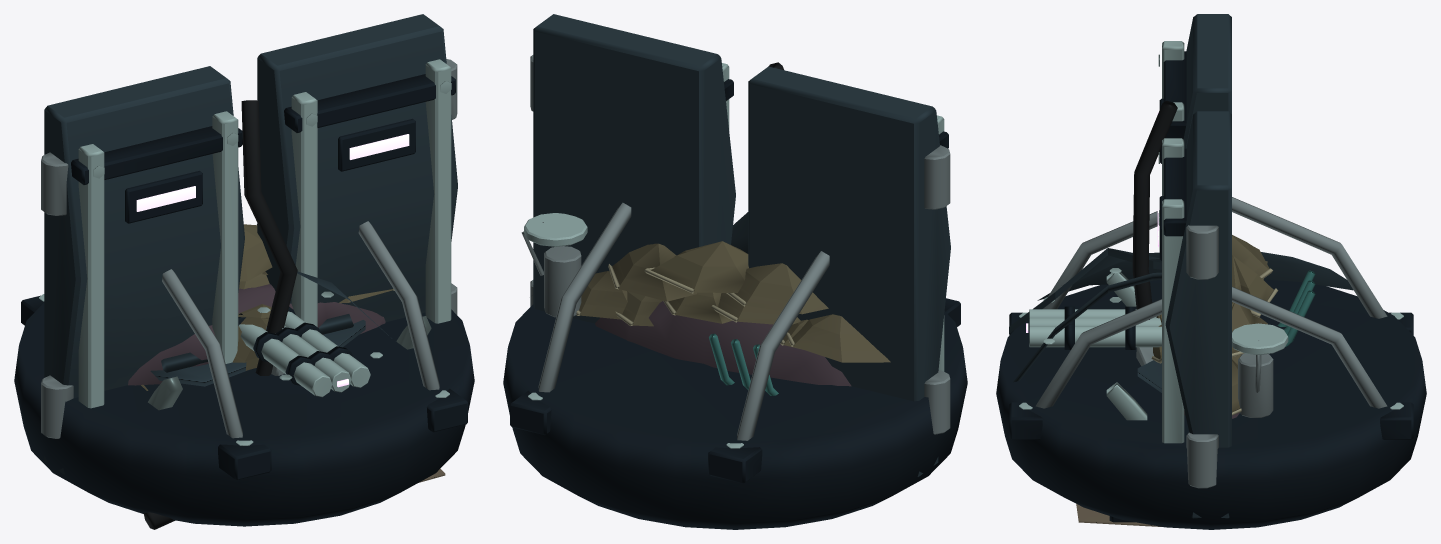
The model's file is incidents.glb.
The picture shows the model from 3 angles, left to right: view 1: azimuth 30°, elevation 25°; view 2: azimuth 150°, elevation 25°; view 3: azimuth 270°, elevation 25°; orthographic projection. The views are drawn at different scales.
Visible parts, largest first — view 1: failed-shield-leaves--e9-body, strained-containment-diaphragm--e9-dark, failed-shield-leaves--e9-trim, failed-shield-leaves--e9-dark, strained-containment-diaphragm--p11-steel, strained-containment-diaphragm--e9-trim, brood-stronghold-wall--p11-tint, failed-shield-leaves--p11-rubber, failed-shield-leaves--p11-steel, brood-stronghold-wall--e9-body, failed-shield-leaves--e9-violet, consuming-workstation-mantle--p11-tint (+2 smaller); view 2: failed-shield-leaves--e9-body, strained-containment-diaphragm--e9-dark, brood-stronghold-wall--p11-tint, strained-containment-diaphragm--p11-steel, consuming-workstation-mantle--p11-tint, failed-shield-leaves--p11-steel, strained-containment-diaphragm--e9-trim, failed-relay-patch--p11-tint, failed-shield-leaves--e9-trim, strained-containment-diaphragm--e9-body; view 3: strained-containment-diaphragm--e9-dark, failed-shield-leaves--e9-body, strained-containment-diaphragm--p11-steel, strained-containment-diaphragm--e9-trim, strained-containment-diaphragm--e9-body, failed-shield-leaves--e9-trim, failed-shield-leaves--p11-steel, failed-shield-leaves--p11-rubber, failed-shield-leaves--e9-dark, brood-stronghold-wall--p11-tint, brood-stronghold-wall--e9-trim, failed-relay-patch--p11-tint (+2 smaller).
Part boxes in pixels (box(x1,y1,x2,y2)): failed-shield-leaves--e9-body: box(44, 14, 457, 474); strained-containment-diaphragm--e9-dark: box(14, 295, 474, 526); failed-shield-leaves--e9-trim: box(78, 59, 451, 408); failed-shield-leaves--e9-dark: box(71, 74, 455, 223); strained-containment-diaphragm--p11-steel: box(162, 221, 439, 438); strained-containment-diaphragm--e9-trim: box(39, 291, 449, 445); brood-stronghold-wall--p11-tint: box(128, 224, 394, 390); failed-shield-leaves--p11-rubber: box(241, 100, 297, 375); failed-shield-leaves--p11-steel: box(41, 59, 457, 438); brood-stronghold-wall--e9-body: box(150, 320, 365, 386); failed-shield-leaves--e9-violet: box(136, 134, 409, 211); consuming-workstation-mantle--p11-tint: box(233, 273, 271, 370); failed-shield-leaves--e9-body: box(533, 14, 950, 476); strained-containment-diaphragm--e9-dark: box(503, 298, 967, 529); brood-stronghold-wall--p11-tint: box(576, 241, 890, 386); strained-containment-diaphragm--p11-steel: box(521, 202, 829, 440); consuming-workstation-mantle--p11-tint: box(615, 291, 808, 349); failed-shield-leaves--p11-steel: box(530, 55, 950, 434); strained-containment-diaphragm--e9-trim: box(524, 213, 743, 448); failed-relay-patch--p11-tint: box(709, 333, 778, 395); failed-shield-leaves--e9-trim: box(722, 63, 944, 371); strained-containment-diaphragm--e9-body: box(532, 212, 748, 295); strained-containment-diaphragm--e9-dark: box(996, 279, 1426, 529); failed-shield-leaves--e9-body: box(1165, 14, 1231, 518); strained-containment-diaphragm--p11-steel: box(1035, 197, 1387, 417); strained-containment-diaphragm--e9-trim: box(1019, 268, 1403, 409); strained-containment-diaphragm--e9-body: box(1009, 248, 1353, 382); failed-shield-leaves--e9-trim: box(1158, 41, 1184, 443); failed-shield-leaves--p11-steel: box(1136, 225, 1218, 488); failed-shield-leaves--p11-rubber: box(1132, 100, 1177, 319); failed-shield-leaves--e9-dark: box(1159, 51, 1186, 261); brood-stronghold-wall--p11-tint: box(1184, 235, 1278, 418); brood-stronghold-wall--e9-trim: box(1106, 272, 1147, 420); failed-relay-patch--p11-tint: box(1277, 270, 1315, 346).
Bounding box in the file's own units: 3.01 × 2.75 × 2.92.
